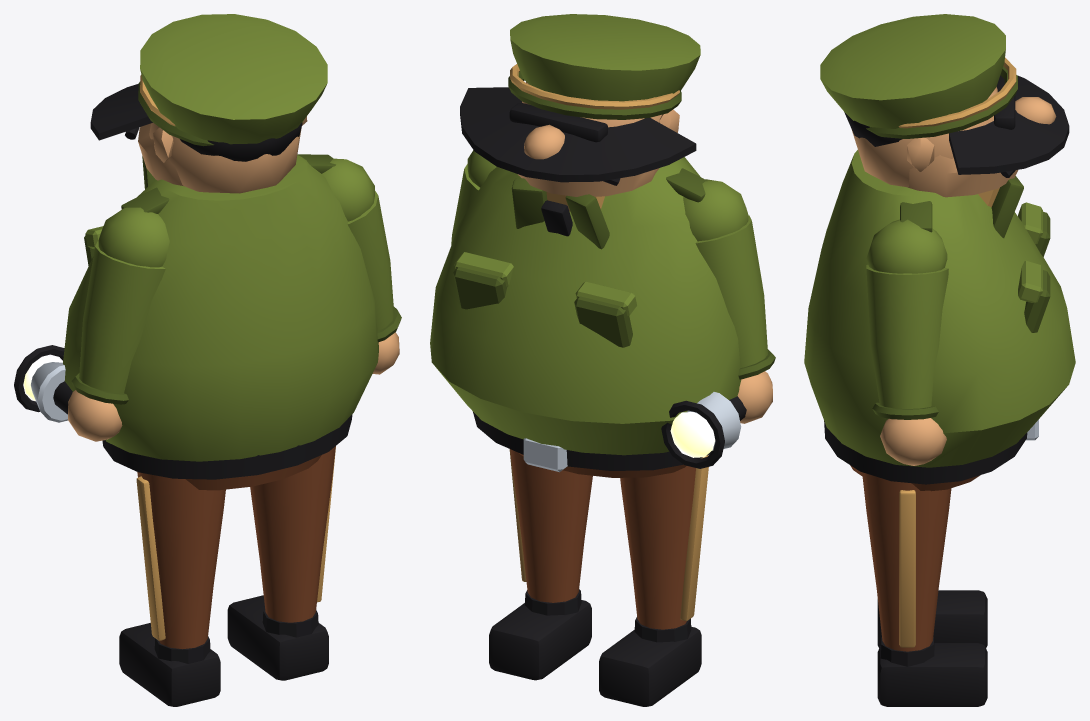
File: guardia.glb
3 renders of one model, left to right at view 1: azimuth 30°, elevation 25°; view 2: azimuth 150°, elevation 25°; view 3: azimuth 270°, elevation 25°, orthographic.
Parts seen in each view (by area): view 1: Torso, Cabeza, Pierna_Izq, Pierna_Der, Brazo_Izq, Brazo_Der, Linterna; view 2: Torso, Cabeza, Pierna_Izq, Pierna_Der, Brazo_Izq, Linterna, Brazo_Der; view 3: Torso, Cabeza, Pierna_Der, Brazo_Der, Pierna_Izq.
Part boxes in pixels (bbox=[...]): Torso: bbox=[63, 154, 378, 490]; Cabeza: bbox=[90, 14, 327, 193]; Pierna_Izq: bbox=[119, 472, 225, 706]; Pierna_Der: bbox=[227, 446, 335, 680]; Brazo_Izq: bbox=[68, 207, 169, 441]; Brazo_Der: bbox=[322, 158, 401, 374]; Linterna: bbox=[14, 345, 106, 439]; Torso: bbox=[430, 157, 741, 477]; Cabeza: bbox=[460, 14, 700, 196]; Pierna_Izq: bbox=[599, 455, 708, 706]; Pierna_Der: bbox=[489, 449, 592, 680]; Brazo_Izq: bbox=[683, 179, 775, 423]; Linterna: bbox=[661, 392, 746, 468]; Brazo_Der: bbox=[451, 150, 496, 244]; Torso: bbox=[804, 150, 1075, 491]; Cabeza: bbox=[820, 14, 1069, 197]; Pierna_Der: bbox=[862, 473, 987, 706]; Brazo_Der: bbox=[866, 219, 948, 465]; Pierna_Izq: bbox=[877, 590, 987, 647].
Size of the model in its own units: 0.8851 by 1.61 by 0.63.
